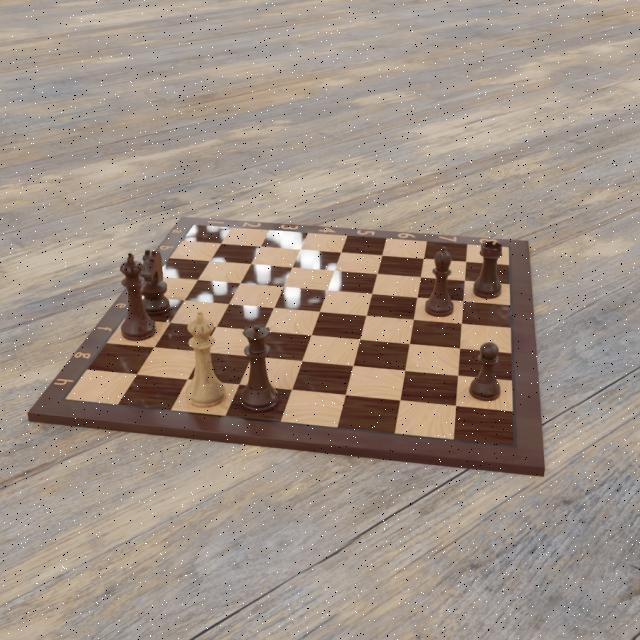black-bishop: (426, 246, 454, 318)
black-king: (120, 252, 156, 342)
black-knight: (138, 244, 169, 316)
black-pawn: (470, 341, 503, 402)
black-queen: (238, 321, 279, 414)
black-rook: (472, 240, 503, 300)
white-king: (186, 309, 226, 410)
